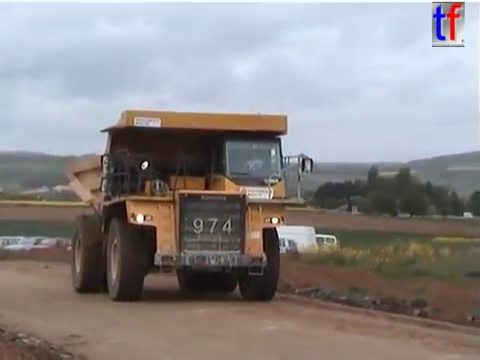truck: (63, 107, 315, 303)
